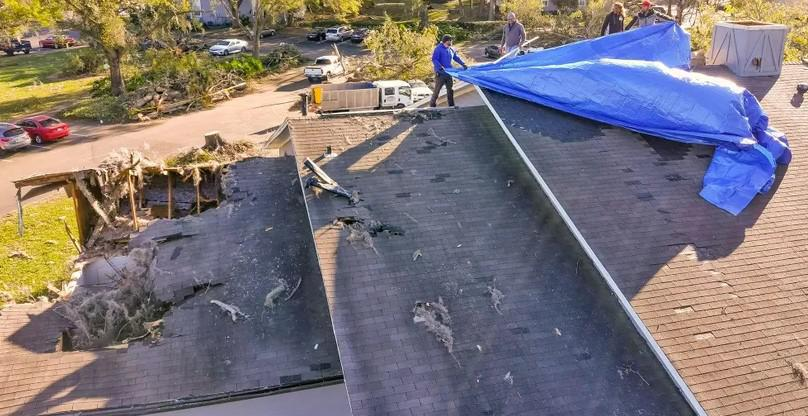major: (8, 90, 788, 416)
